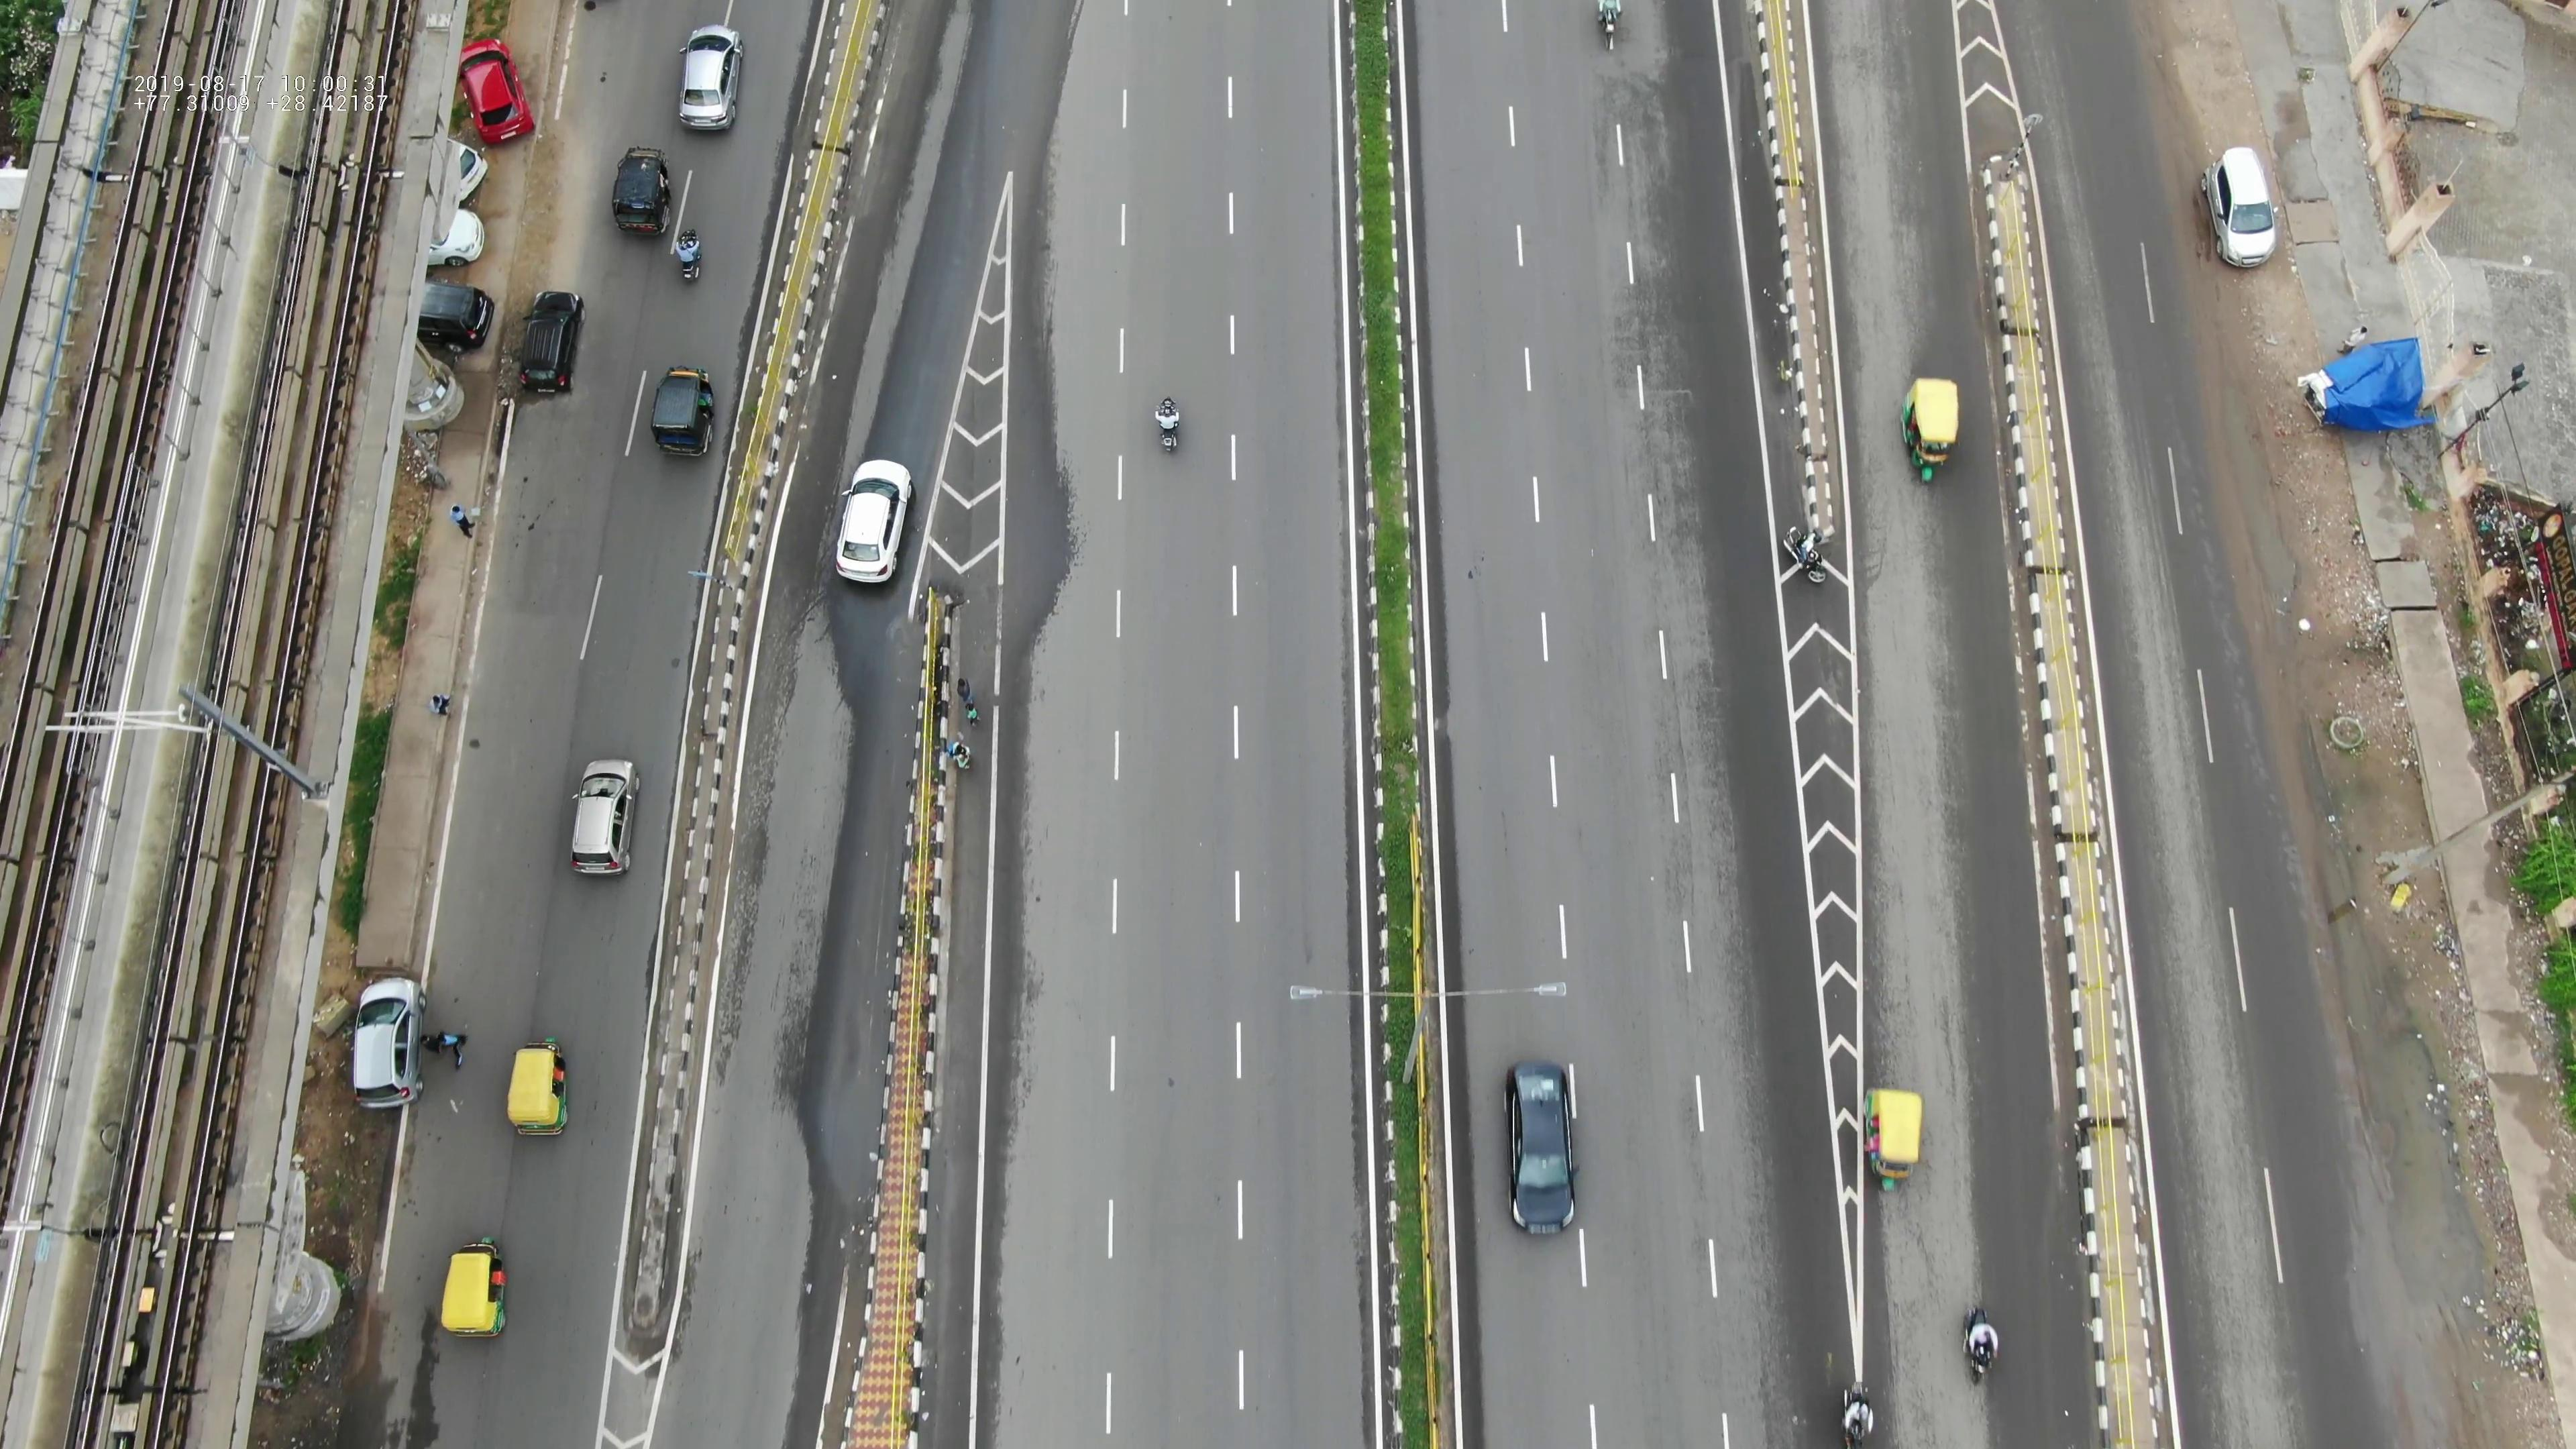Waterlogging: (2339, 924, 2465, 1269), (1727, 39, 1796, 416), (2220, 396, 2304, 602), (809, 1063, 888, 1203)
